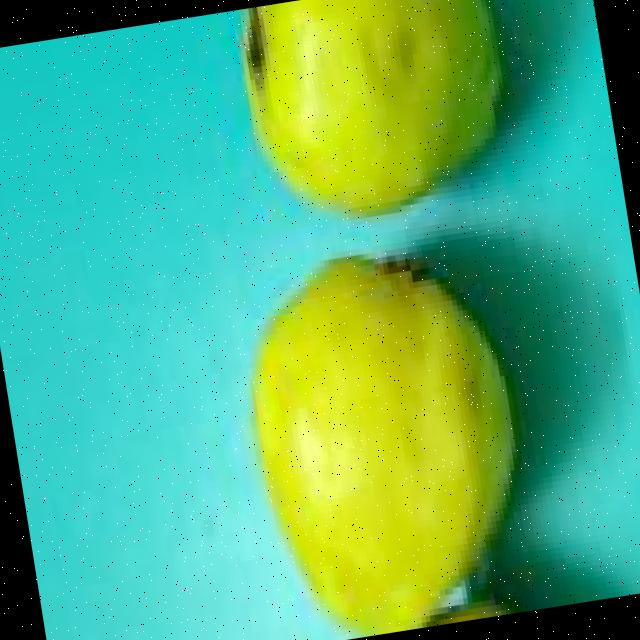Good_Guava 5-7 days: (256, 259, 524, 637), (252, 0, 505, 218)
